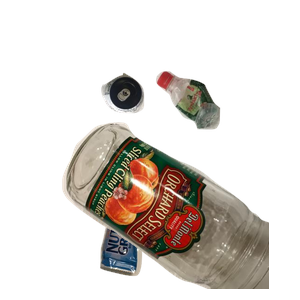glass: (60, 120, 300, 300)
metal: (99, 70, 236, 176)
plastic: (153, 68, 300, 190)
trash: (97, 152, 248, 300)
